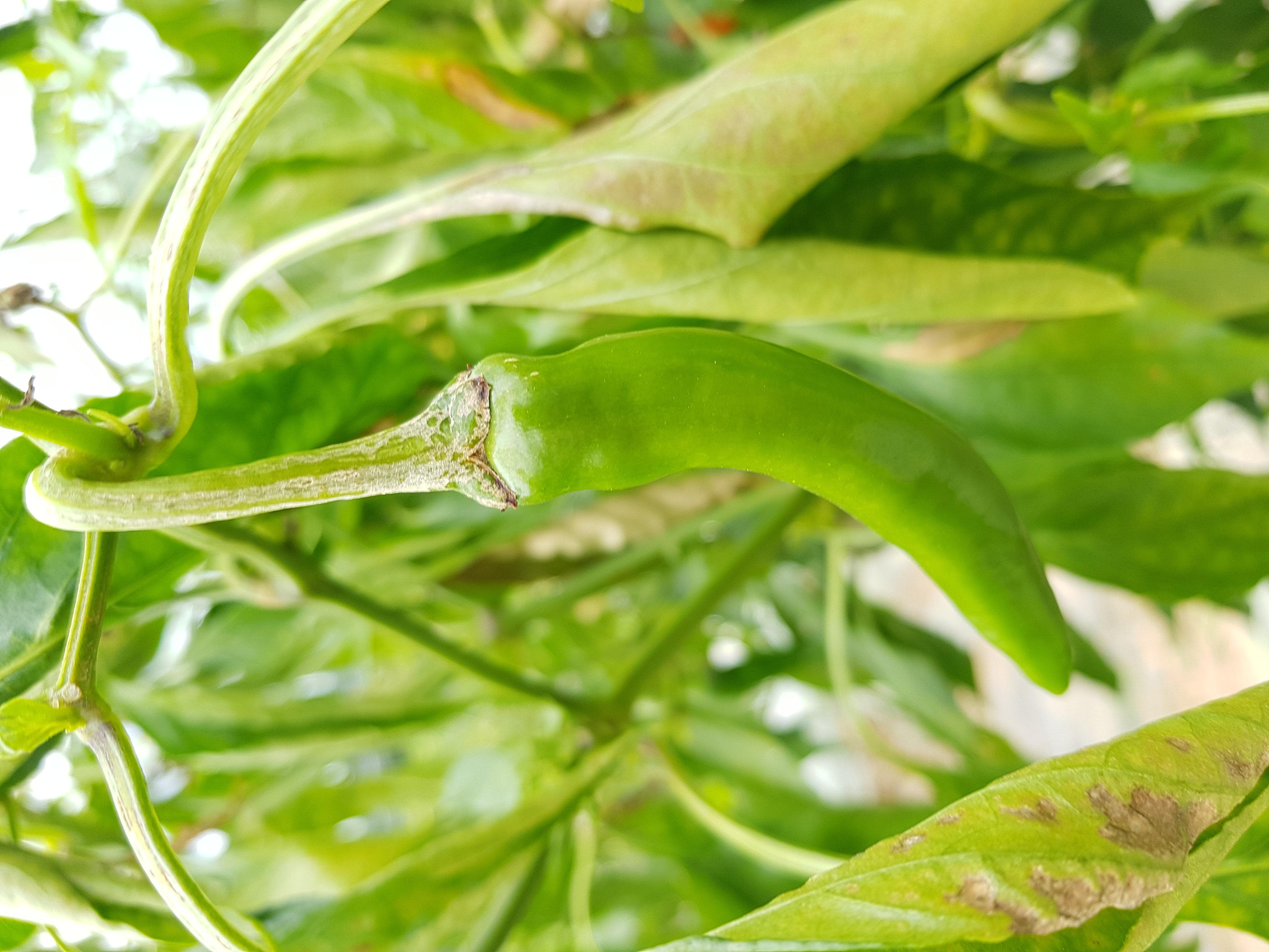Bercak Daun Serkospora: (700, 678, 1269, 952)
Buah Cabai Sehat: (431, 315, 1077, 706)
